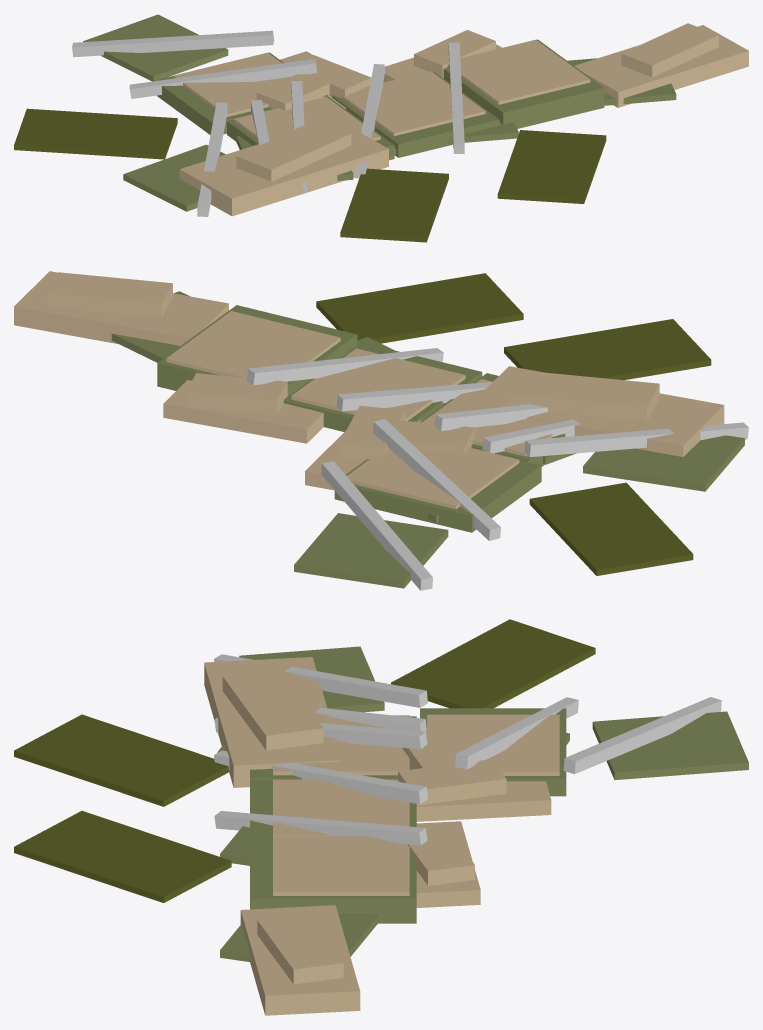
Rendered from SM_HescoRemate_v4_Red_e3_Brecha_LOD1.fbx.
3 renders of one model, top to bottom at view 1: azimuth 30°, elevation 25°; view 2: azimuth 150°, elevation 25°; view 3: azimuth 270°, elevation 25°, orthographic. The views are drawn at different scales.
Parts seen in each view (by area): view 1: SM_hesco_piezas_v39_LOD1; view 2: SM_hesco_piezas_v39_LOD1; view 3: SM_hesco_piezas_v39_LOD1.
Part boxes in pixels (left/top/right/bottom): SM_hesco_piezas_v39_LOD1: left=14, top=14, right=748, bottom=242; SM_hesco_piezas_v39_LOD1: left=14, top=271, right=748, bottom=590; SM_hesco_piezas_v39_LOD1: left=14, top=619, right=748, bottom=1015.
Size of the model in its own units: 6.75 by 0.351 by 5.38.
